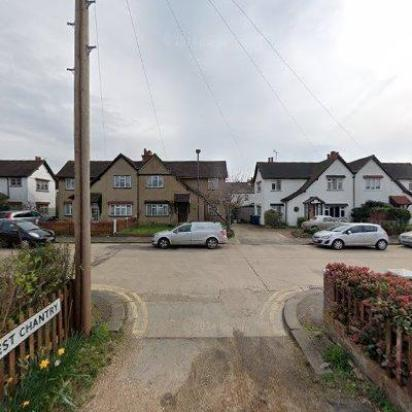stationary-car-offstreet: (0, 208, 46, 222), (302, 215, 336, 232)
stationary-car-onstreet: (149, 219, 229, 250), (311, 221, 387, 249), (0, 219, 56, 249), (398, 229, 412, 247)
